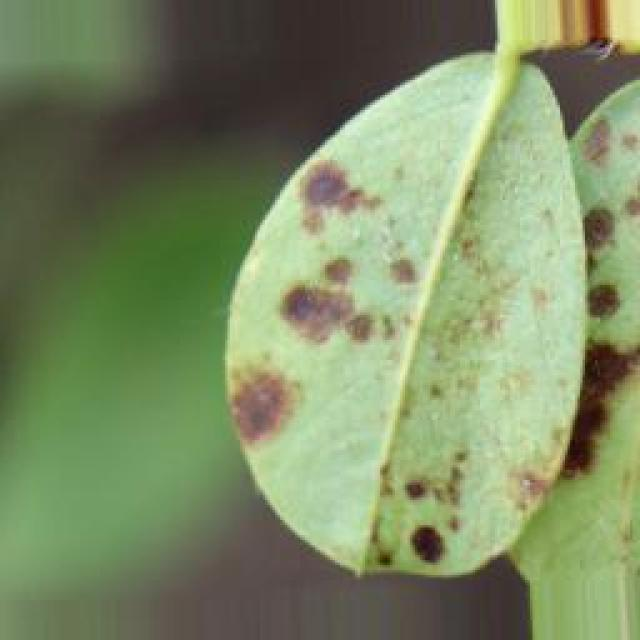Whitefly: (225, 124, 640, 605)
